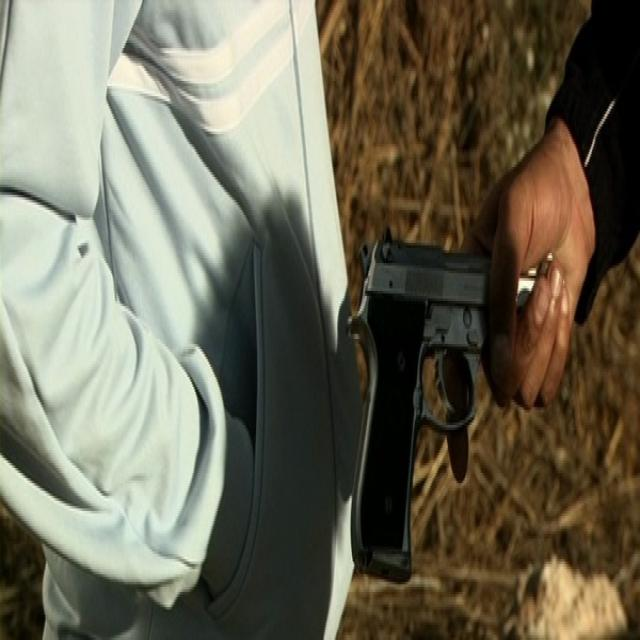weapons: (338, 188, 581, 566)
